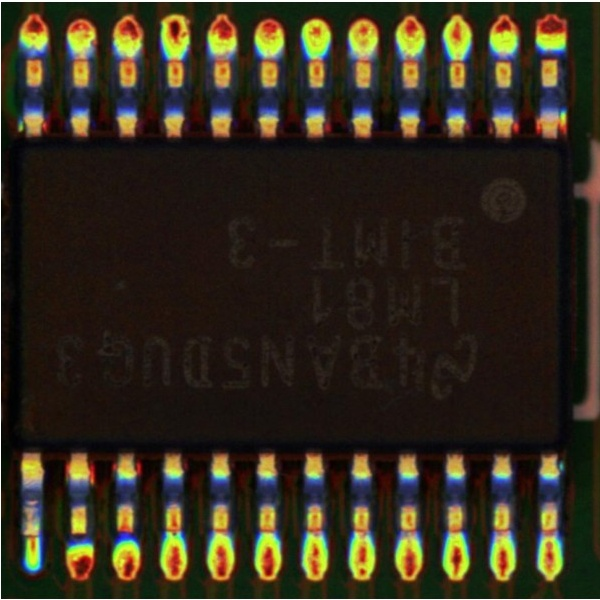Bad_podu: (24, 525, 39, 554)
